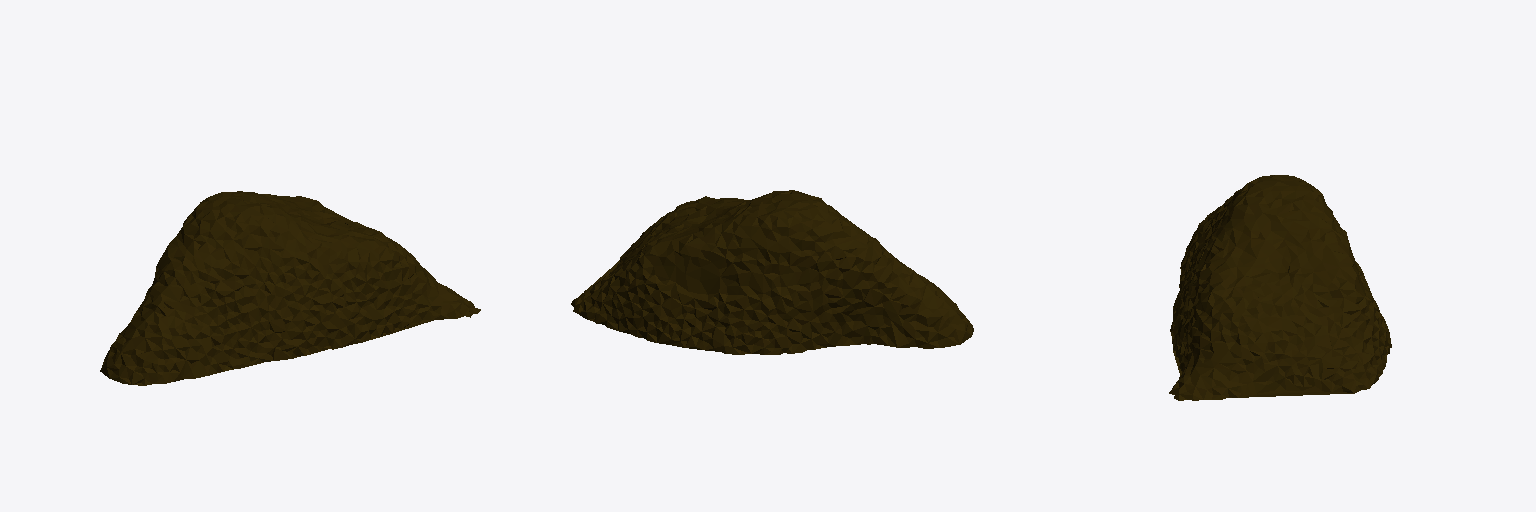
Rendered from Object_PoritesCoral1.obj.
3 renders of one model, left to right at view 1: azimuth 30°, elevation 25°; view 2: azimuth 150°, elevation 25°; view 3: azimuth 270°, elevation 25°, orthographic.
Visible parts, largest first — view 1: PoritesCoral1; view 2: PoritesCoral1; view 3: PoritesCoral1.
Boxes of the visible parts, box(x1,y1,x2,y2) form: PoritesCoral1: box(100, 191, 480, 385); PoritesCoral1: box(571, 190, 973, 354); PoritesCoral1: box(1169, 175, 1391, 400).
Bounding box in the file's own units: 13.88 × 4.55 × 7.67.